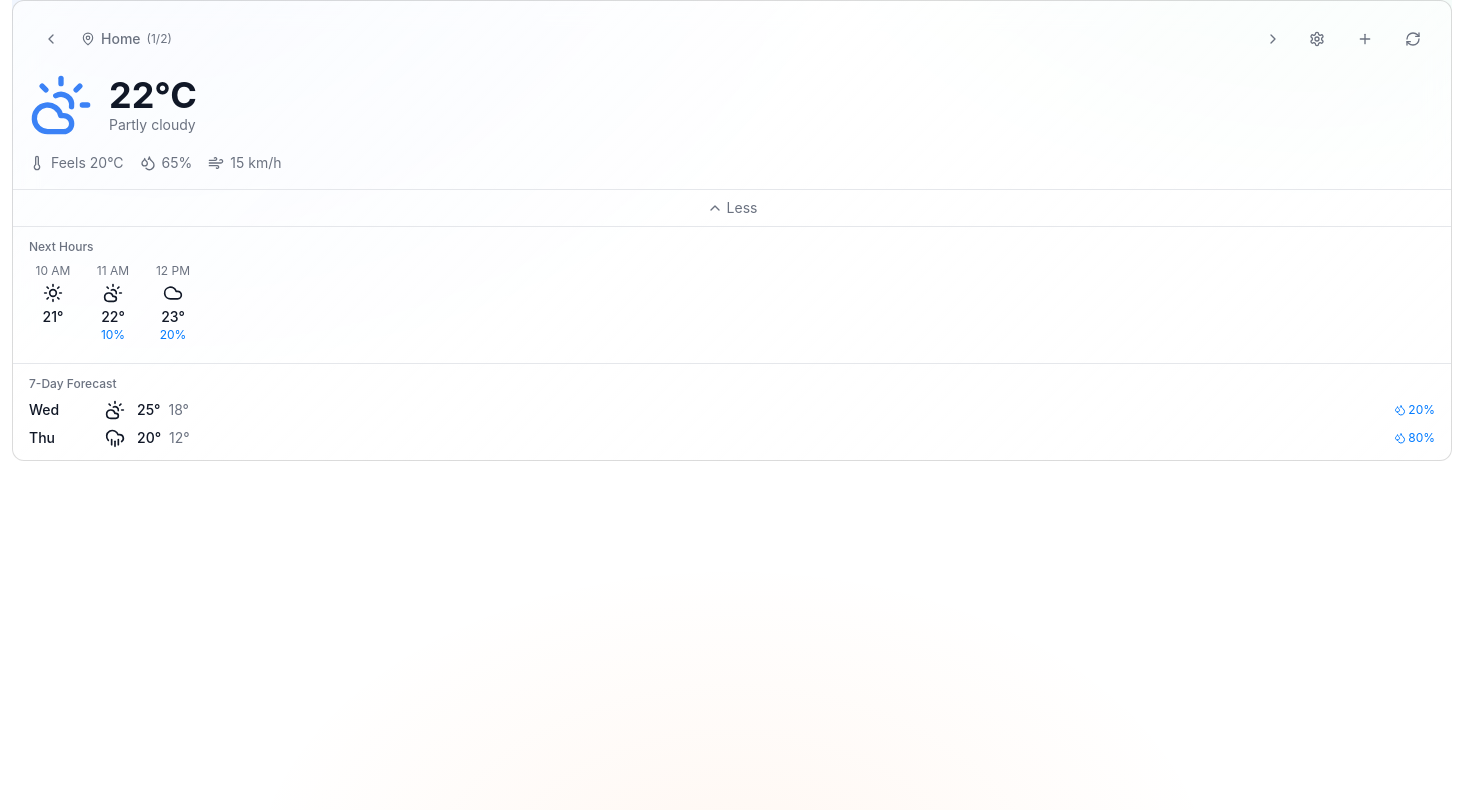
WeatherWidget › Expand/Collapse Forecast › expands forecast on click
The width and height of the screenshot is (1464, 810).
// Collapse first
Click the button "Less". click: click(732, 208)
box: x1=13 y1=189 x2=1451 y2=226
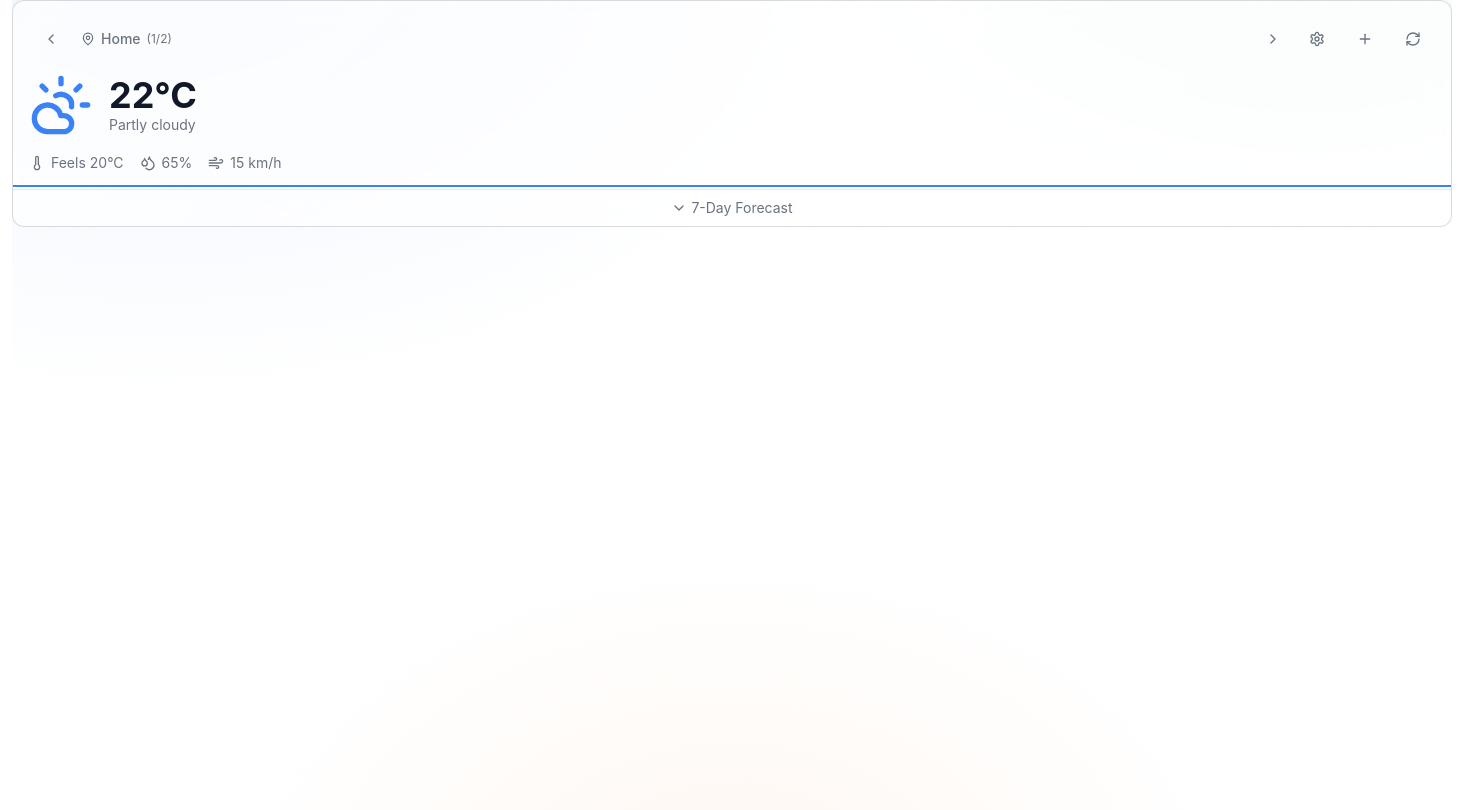
// Then expand
Click the button "7-Day Forecast". click: click(732, 208)
box: x1=13 y1=189 x2=1451 y2=226
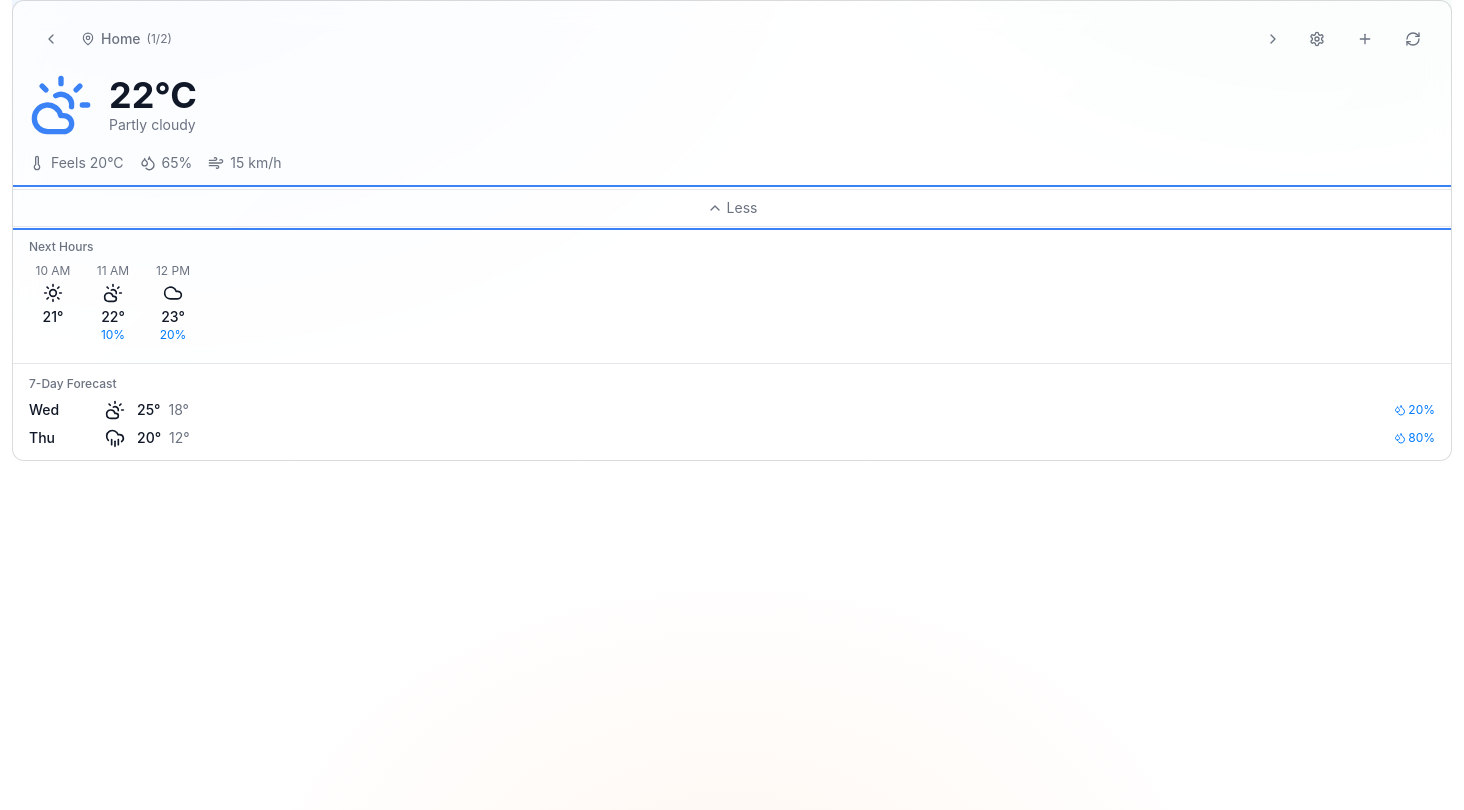
Expected: the heading "Next Hours" is shown, x1=29 y1=239 x2=94 y2=254
